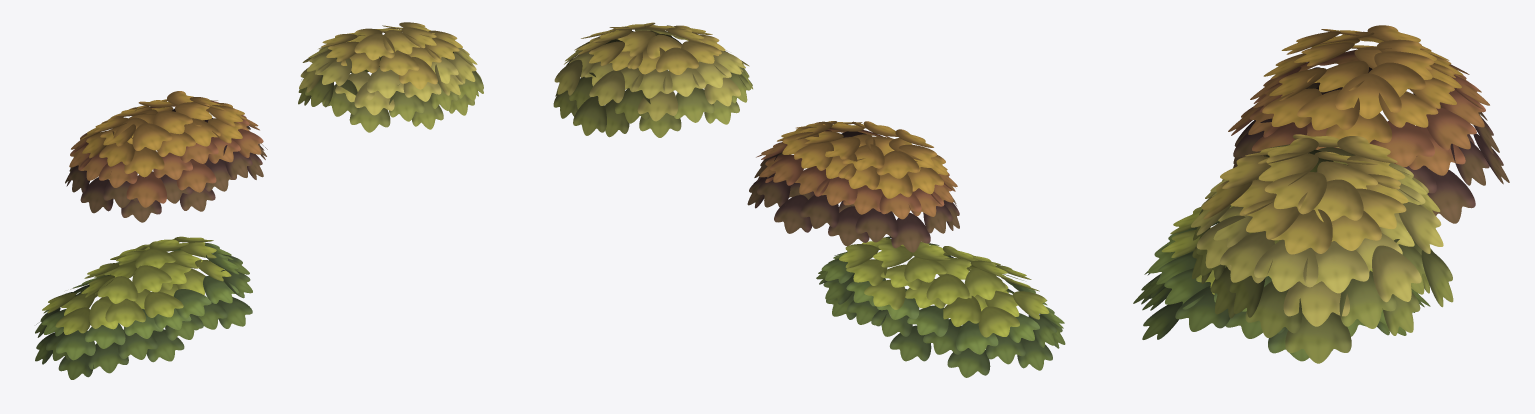
File: hojas de arbol gordo.fbx
The picture shows the model from 3 angles, left to right: view 1: azimuth 30°, elevation 25°; view 2: azimuth 150°, elevation 25°; view 3: azimuth 270°, elevation 25°; orthographic projection. The views are drawn at different scales.
Parts seen in each view (by area): view 1: Object176, Object189, Object162, Object276, Object275, Object256, Object067, Object245, Object187, Object255, Object226, Object205 (+54 smaller); view 2: Object155, Object156, Object153, Object152, Object259, Object236, Object278, Object277, Object220, Object051, Object231, Object247 (+55 smaller); view 3: Object058, Object046, Object232, Object059, Object180, Object233, Object072, Object088, Object077, Object228, Object057, Object238 (+60 smaller).
Part boxes in pixels (x1,y1,x2,y2): Object176: [126, 171, 166, 207]; Object189: [132, 123, 172, 150]; Object162: [176, 159, 216, 192]; Object276: [97, 276, 137, 303]; Object275: [132, 265, 171, 292]; Object256: [105, 298, 145, 327]; Object067: [367, 67, 404, 98]; Object245: [56, 330, 95, 360]; Object187: [124, 147, 164, 177]; Object255: [144, 291, 183, 317]; Object226: [173, 289, 211, 319]; Object205: [88, 342, 128, 373]; Object155: [855, 208, 898, 242]; Object156: [891, 212, 930, 252]; Object153: [800, 194, 839, 228]; Object152: [774, 195, 812, 233]; Object259: [978, 306, 1019, 337]; Object236: [573, 96, 606, 135]; Object278: [964, 268, 1005, 299]; Object277: [926, 274, 969, 304]; Object220: [889, 325, 931, 361]; Object051: [674, 87, 714, 122]; Object231: [589, 70, 624, 105]; Object247: [956, 320, 998, 354]; Object058: [1254, 239, 1318, 291]; Object046: [1285, 312, 1351, 363]; Object232: [1372, 245, 1421, 302]; Object059: [1303, 241, 1369, 293]; Object180: [1335, 73, 1401, 118]; Object233: [1283, 281, 1349, 326]; Object072: [1339, 270, 1396, 328]; Object088: [1264, 172, 1326, 214]; Object077: [1271, 209, 1332, 254]; Object228: [1245, 281, 1302, 337]; Object057: [1219, 231, 1274, 283]; Object238: [1370, 121, 1434, 166].
Bounding box in the file's own units: 588 × 301 × 266.
